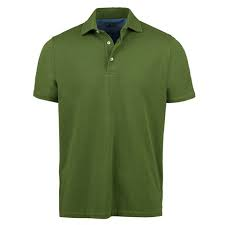C_polo shirt: (21, 14, 197, 222)
